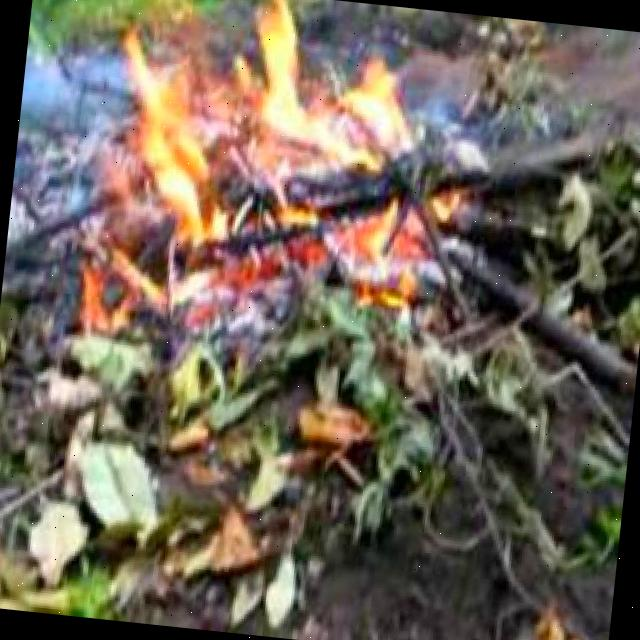fire: (76, 0, 244, 266), (235, 0, 427, 212)
